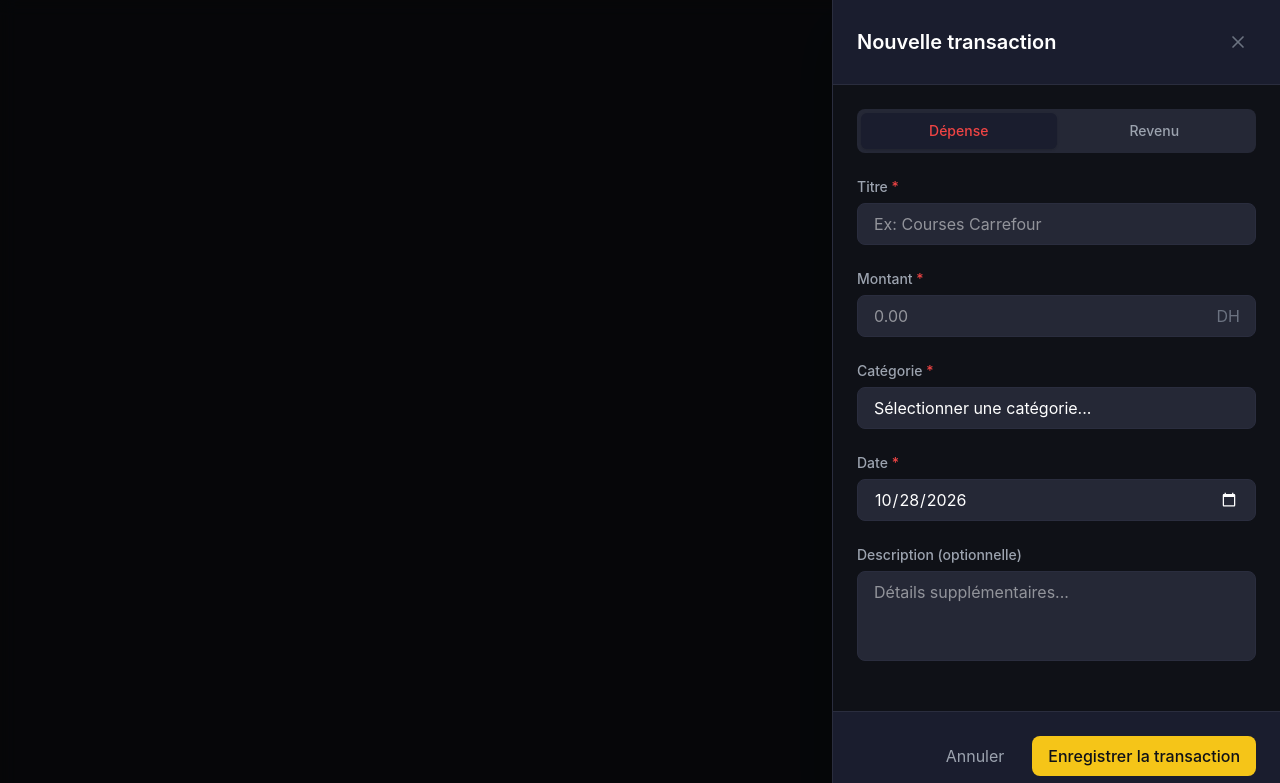
TransactionForm › TransactionForm_amountWithNegativeNumber_shouldShowError
Type zero amount
Step 1. Type "0" into the field labelled "Montant *" → (1056, 316), box [857,295,1256,337]
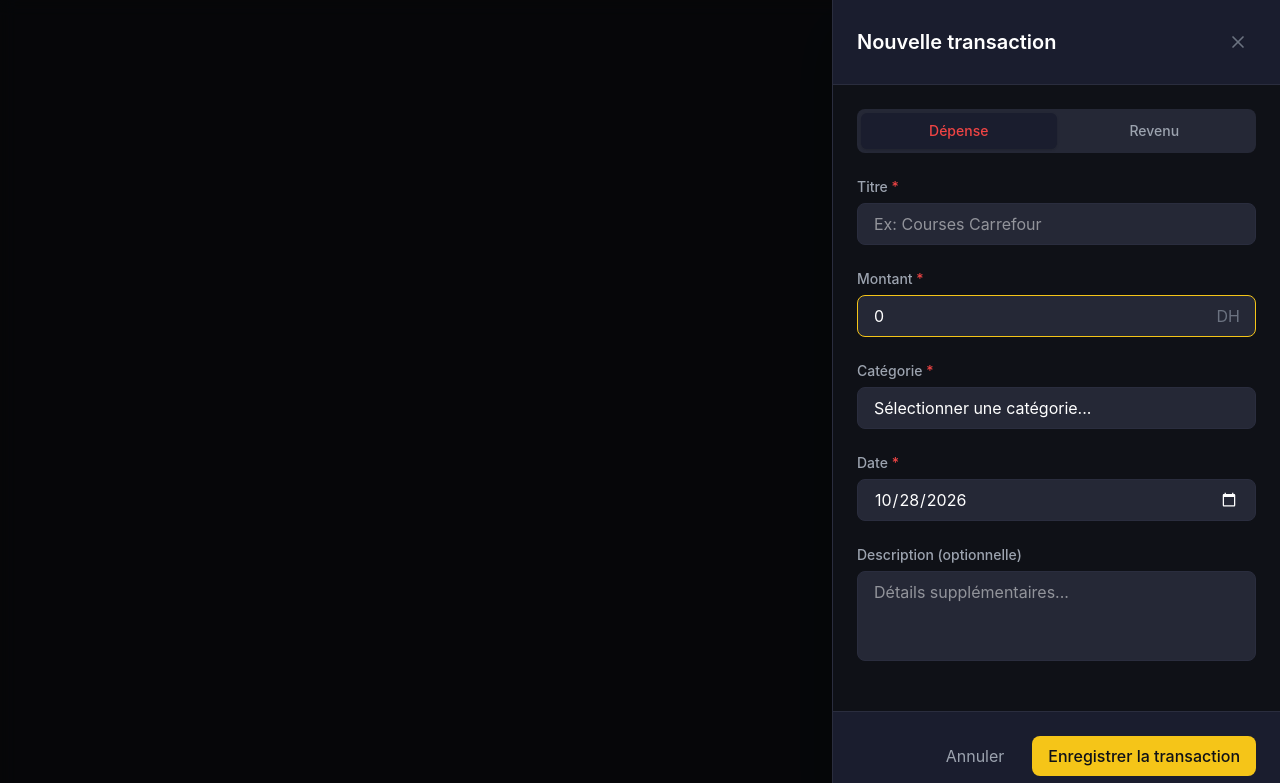
Step 2. Click the button "Enregistrer la transaction" → (1144, 756), box [1032,736,1256,776]
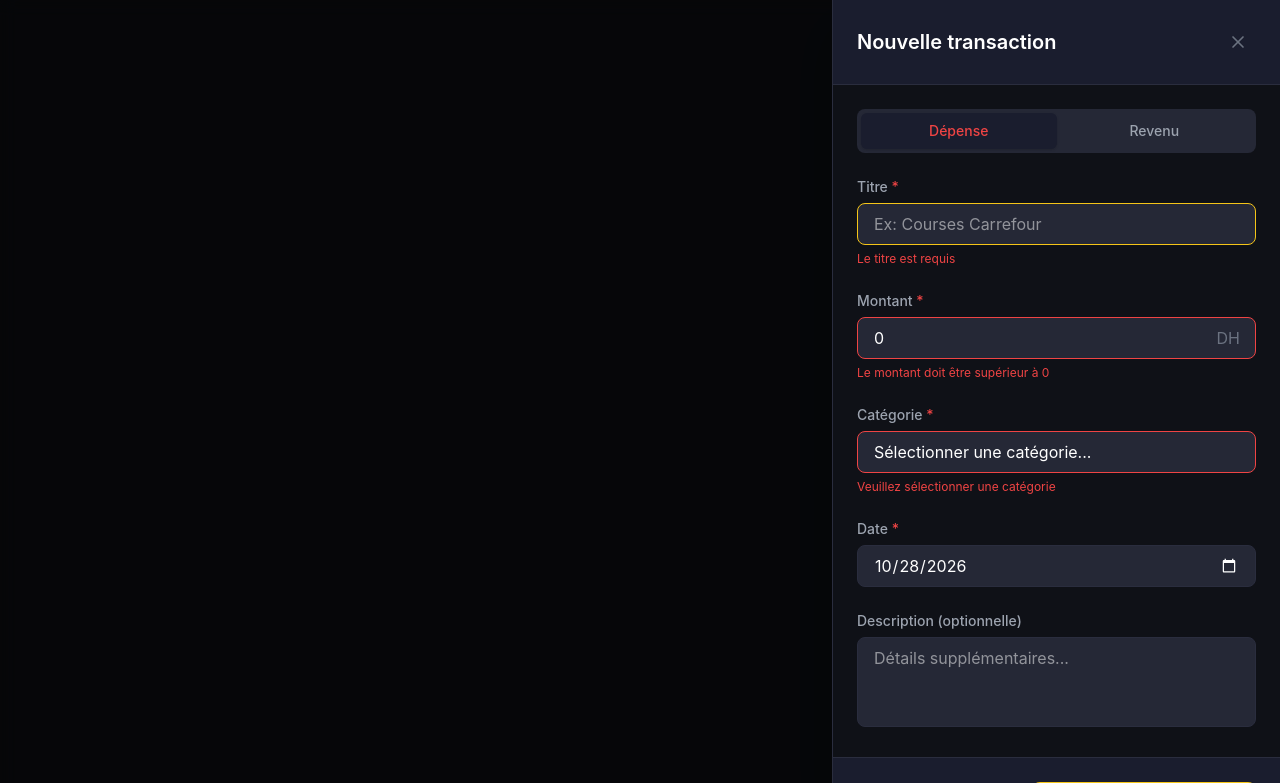
Result: the text "Le montant doit être supérieur à 0" is shown at [857,365,1049,380]
